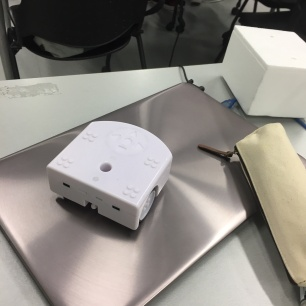thymio: (43, 117, 180, 237)
